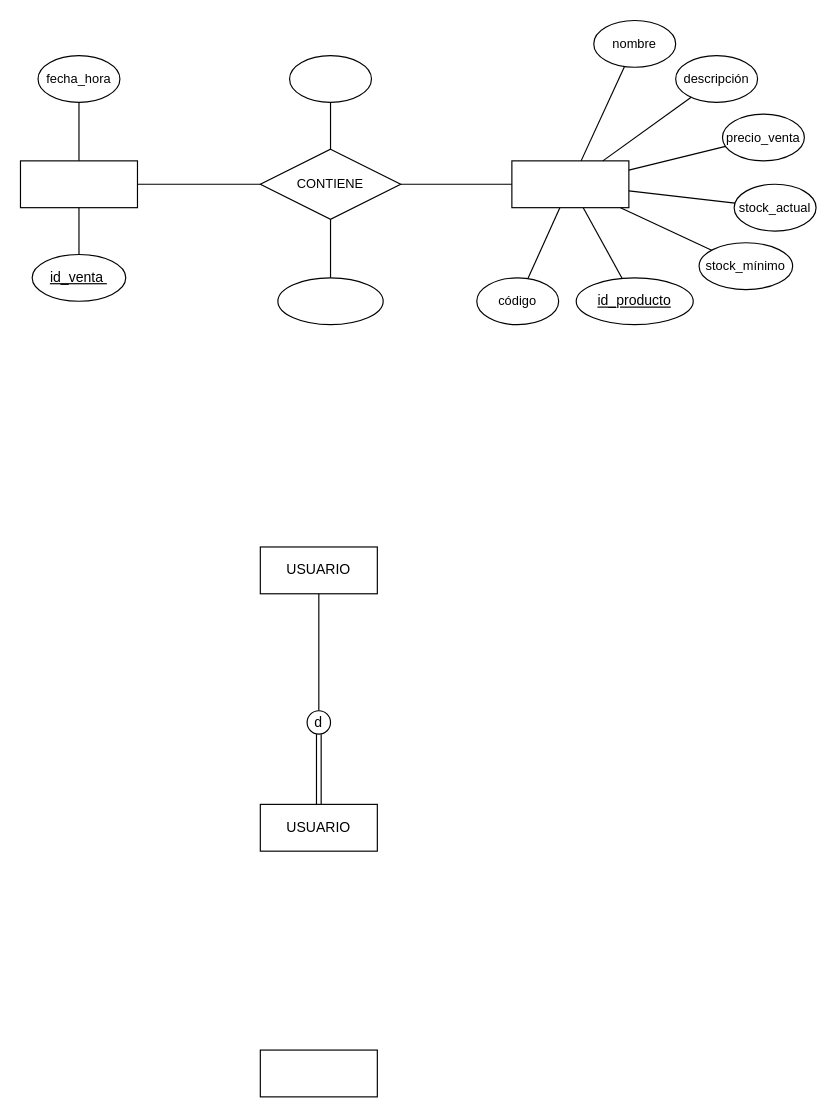
The diagram is 837 pixels wide and 1117 high, and some of its shapes have lost their labels. Here are the shapes that lost their labels. From the top down, the centre of each, then its label:
(329,78): cantidad
(78,184): VENTA
(570,184): PRODUCTO
(330,301): precio_unitario
(318,1073): ROL
